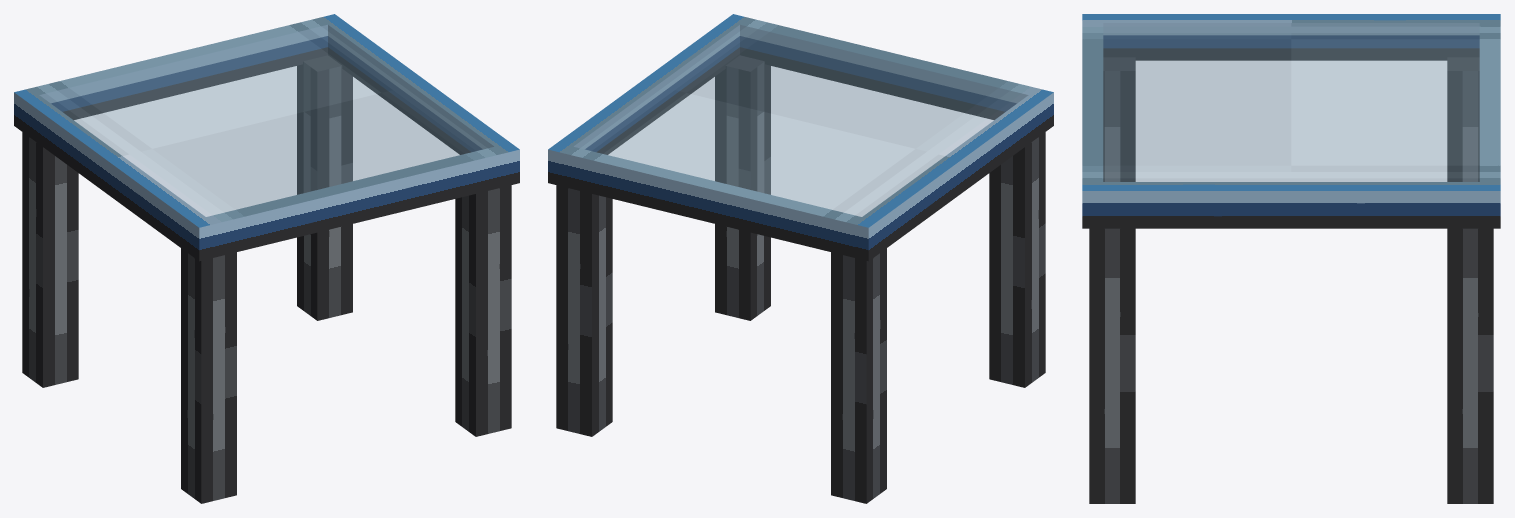
File: glass_table_single_4legs.glb
3 views of the same model, side by side, from view 1: azimuth 30°, elevation 25°; view 2: azimuth 150°, elevation 25°; view 3: azimuth 270°, elevation 25° (orthographic). The views are drawn at different scales.
Parts seen in each view (by area): view 1: glass_table_single_4legs; view 2: glass_table_single_4legs; view 3: glass_table_single_4legs.
Boxes of the visible parts, x1=… form: glass_table_single_4legs: x1=14, y1=14, x2=519, y2=503; glass_table_single_4legs: x1=548, y1=14, x2=1053, y2=503; glass_table_single_4legs: x1=1082, y1=14, x2=1500, y2=503.
Bounding box in the file's own units: 0.9 × 0.75 × 0.9.
2 materials, 2 textured.
